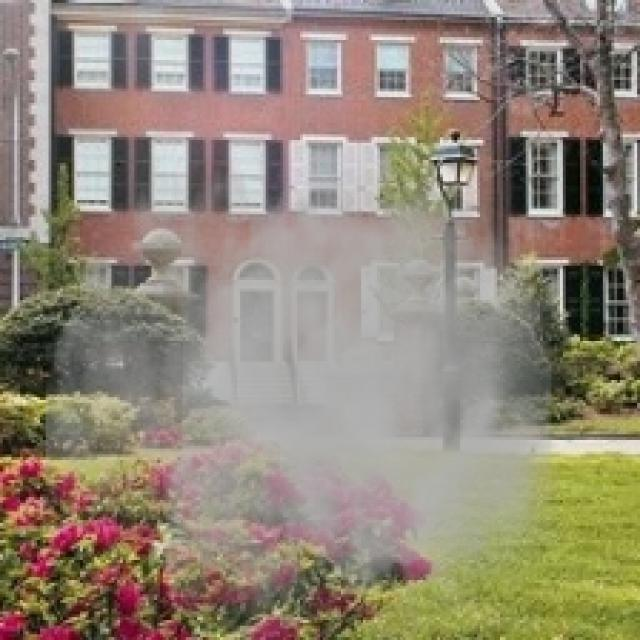smoke: (46, 103, 586, 637)
